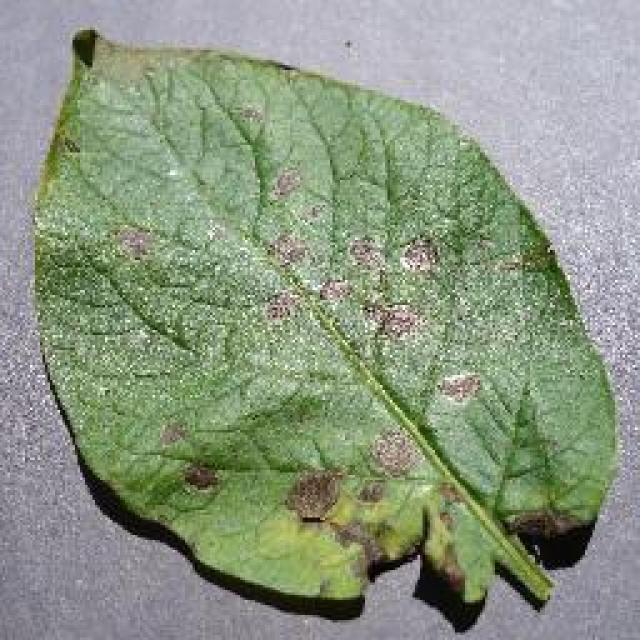early_blight: (25, 25, 623, 620)
